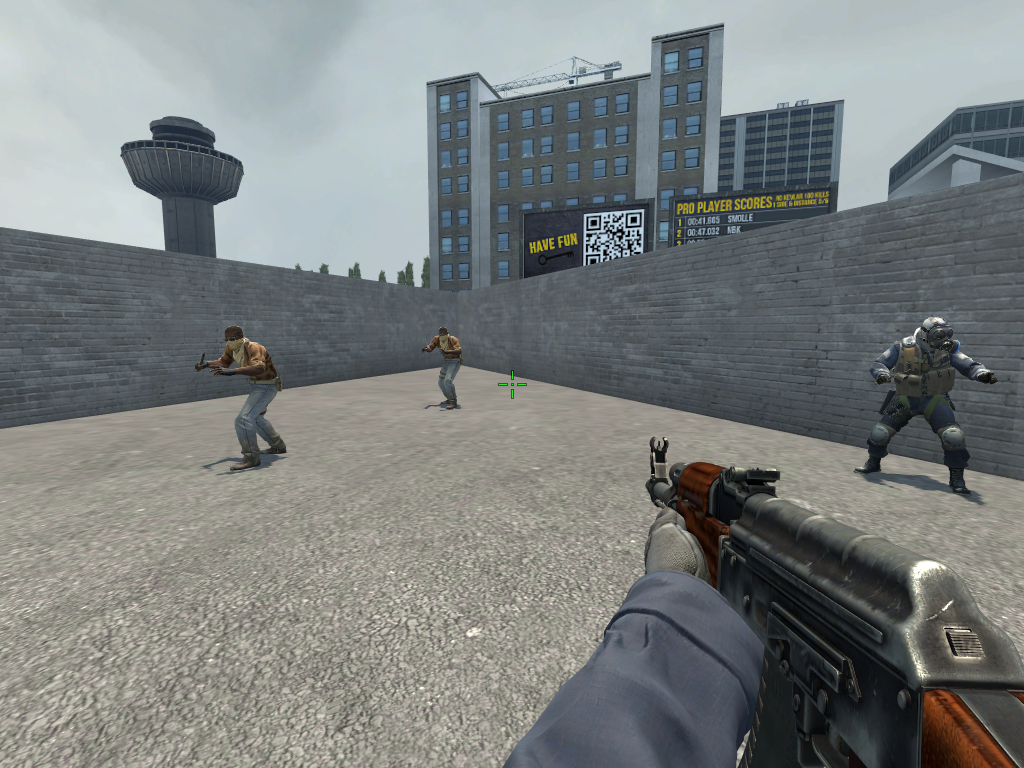ct head: (915, 310, 956, 350)
tr head: (221, 321, 245, 352), (436, 324, 450, 341)
